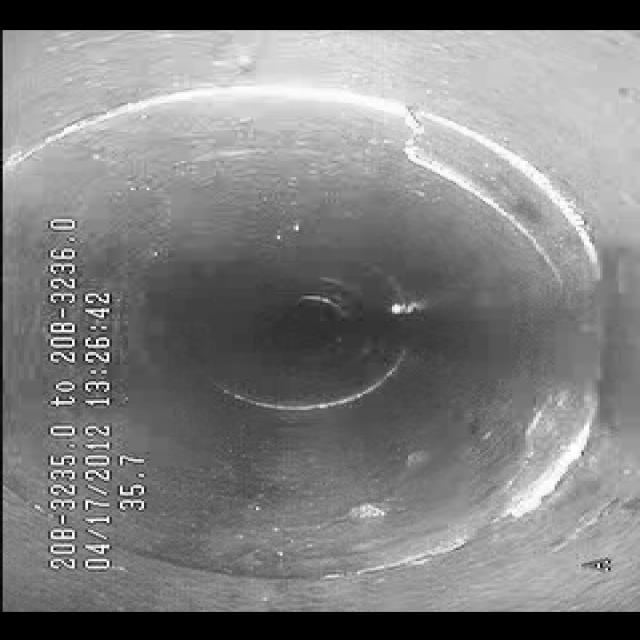Crack: (376, 106, 554, 266)
